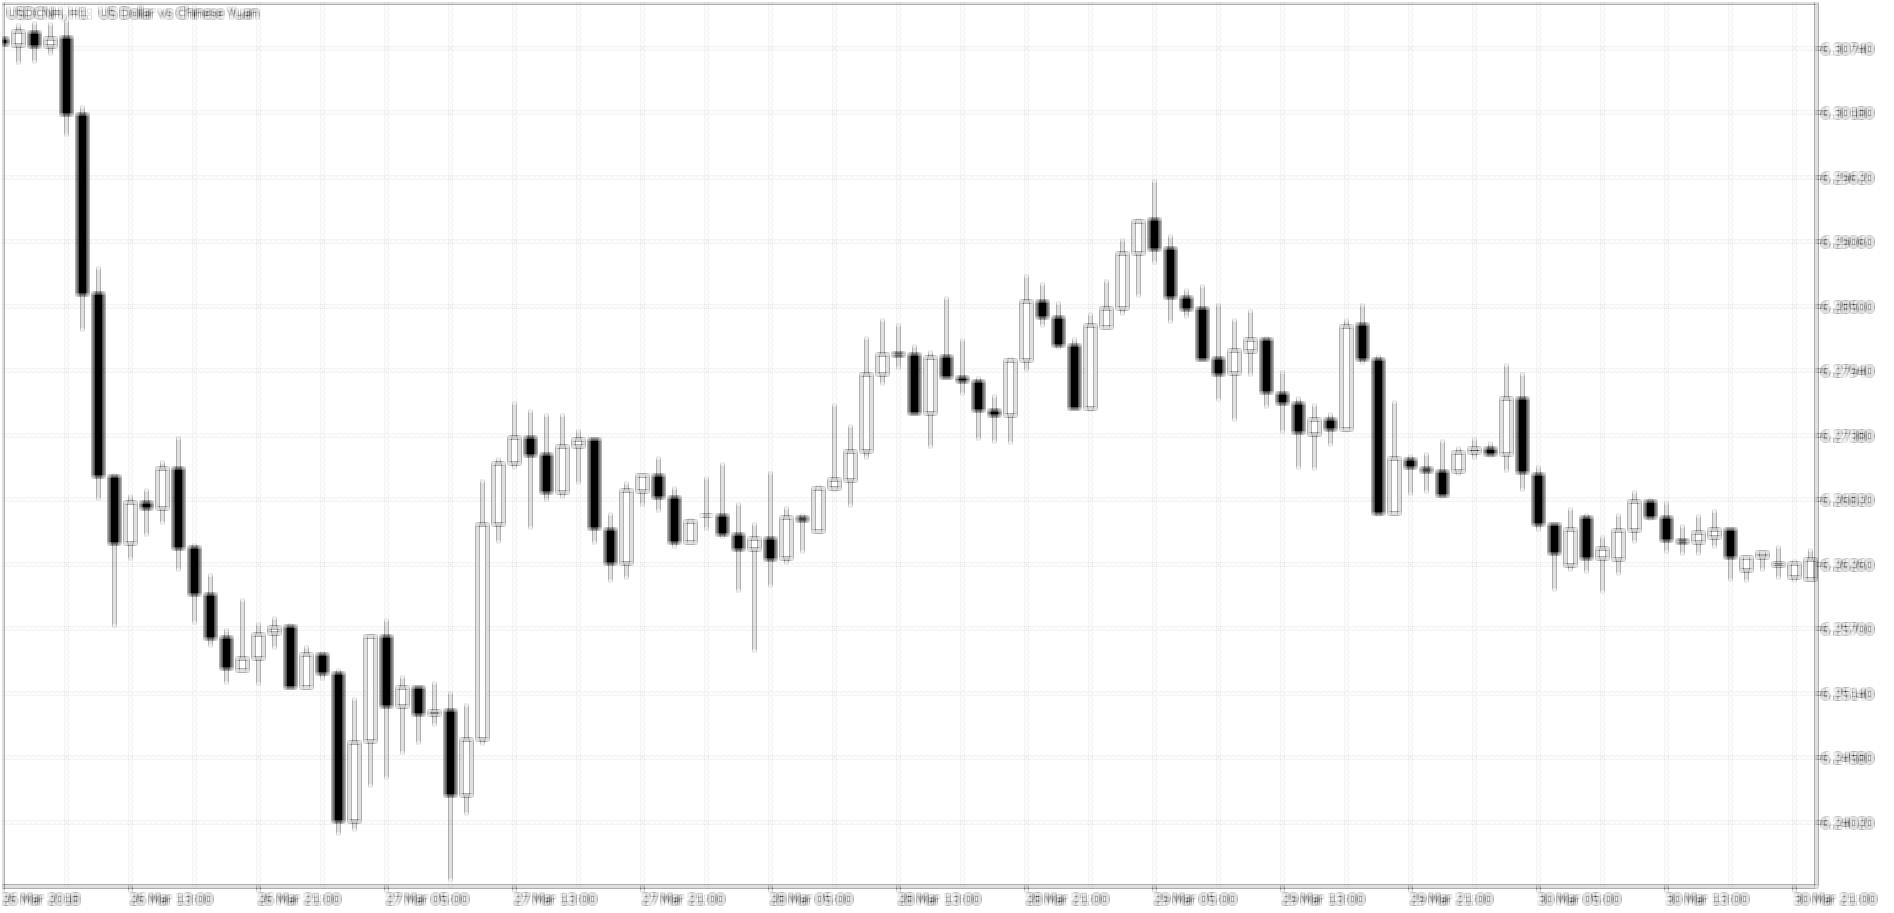3blackcrows: (59, 24, 109, 507), (1514, 366, 1564, 607)
morningStar: (971, 351, 1018, 448)
